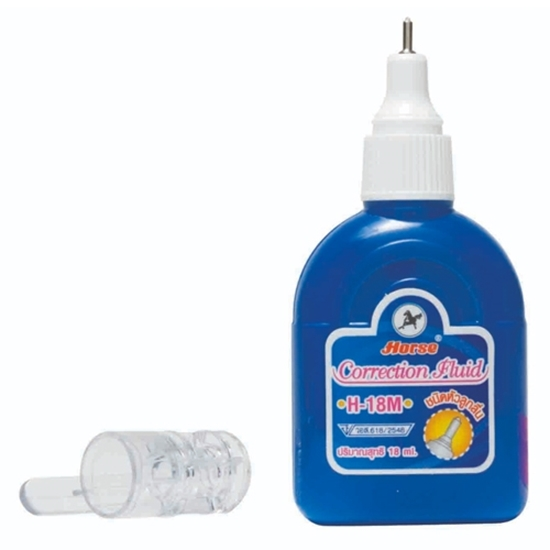Correction_fluid: (284, 11, 536, 537)
